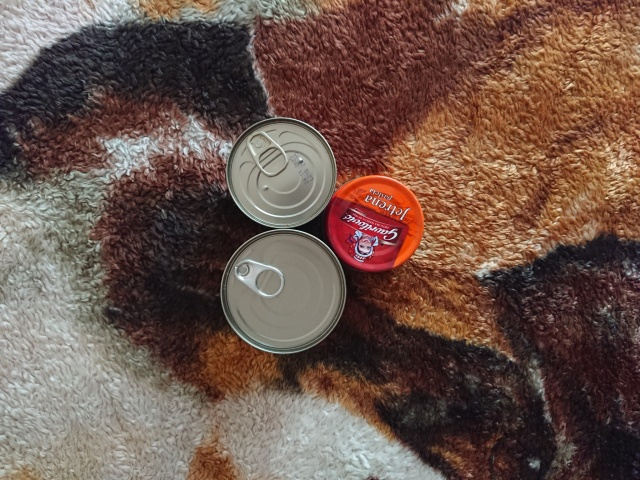Gavrilovic Pork Liver Pate 100g: (323, 171, 427, 276)
Giana Tuna Salad Mexico 185g: (217, 228, 349, 356)
Podravka Luncheon Meat 150g: (223, 113, 339, 231)
